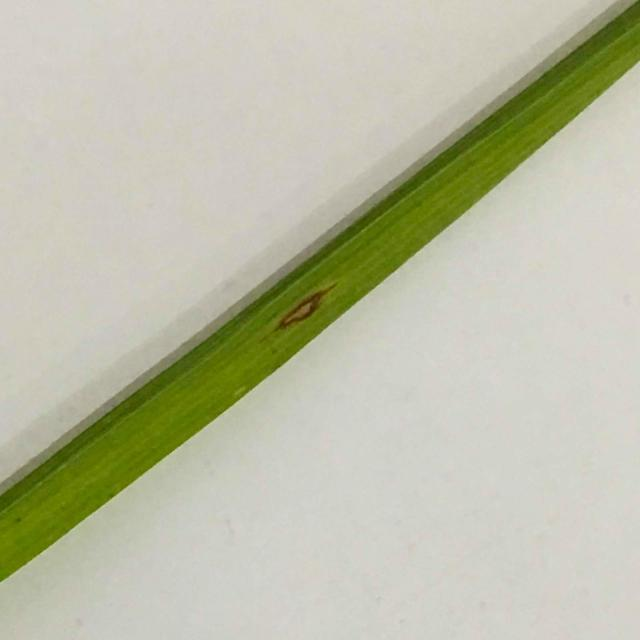Leaf blast: (1, 2, 640, 583)
